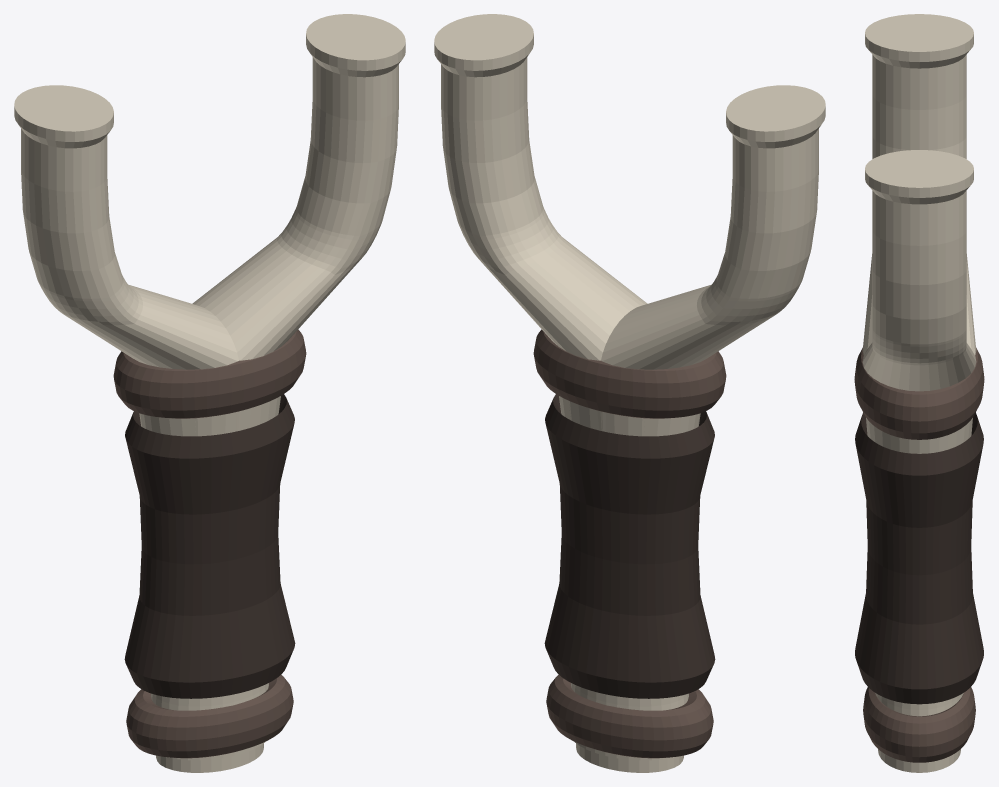
3 renders of one model, left to right at view 1: azimuth 30°, elevation 25°; view 2: azimuth 150°, elevation 25°; view 3: azimuth 270°, elevation 25°, orthographic. The views are drawn at different scales.
Visible parts, largest first — view 1: 柱体, 环体.002, 环体, 环体.001; view 2: 柱体, 环体.002, 环体, 环体.001; view 3: 柱体, 环体.002, 环体, 环体.001.
Boxes of the visible parts, left/top/right/bottom form: 柱体: left=14, top=14, right=405, bottom=772; 环体.002: left=124, top=394, right=295, bottom=698; 环体: left=113, top=329, right=306, bottom=418; 环体.001: left=126, top=674, right=293, bottom=758; 柱体: left=434, top=14, right=825, bottom=772; 环体.002: left=544, top=394, right=715, bottom=698; 环体: left=533, top=329, right=726, bottom=418; 环体.001: left=546, top=674, right=713, bottom=758; 柱体: left=862, top=14, right=976, bottom=772; 环体.002: left=855, top=412, right=983, bottom=704; 环体: left=854, top=347, right=984, bottom=439; 环体.001: left=863, top=687, right=975, bottom=762.
Size of the model in its own units: 321 by 558 by 101.
